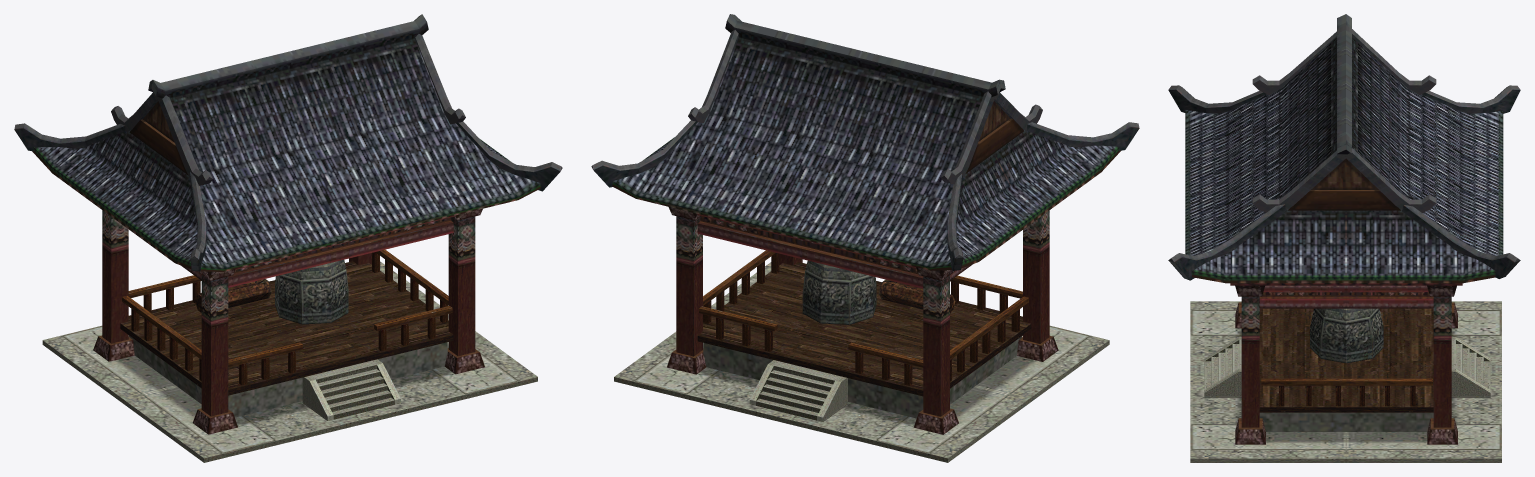
The model's file is landmark-01-bellhouse.fbx.
3 renders of one model, left to right at view 1: azimuth 30°, elevation 25°; view 2: azimuth 150°, elevation 25°; view 3: azimuth 270°, elevation 25°, orthographic. The views are drawn at different scales.
Parts seen in each view (by area): view 1: bell; view 2: bell; view 3: bell.
Part boxes in pixels (box(x1,y1,x2,y2)): bell: box(14, 14, 562, 462); bell: box(591, 14, 1139, 462); bell: box(1168, 14, 1520, 462).
Size of the model in its own units: 12.97 by 10.56 by 11.03.
